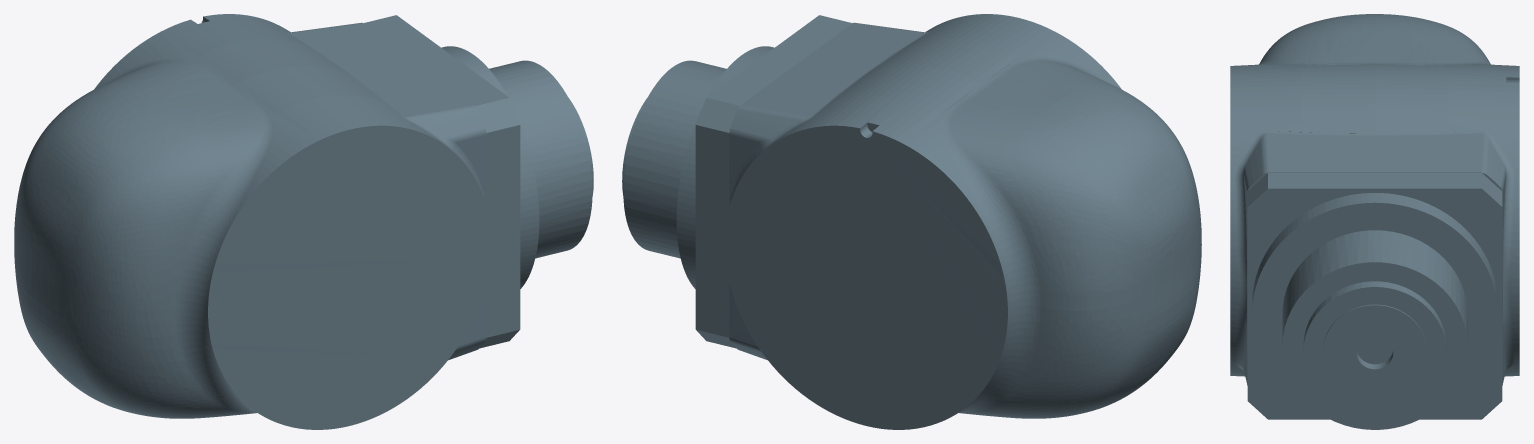
3 renders of one model, left to right at view 1: azimuth 30°, elevation 25°; view 2: azimuth 150°, elevation 25°; view 3: azimuth 270°, elevation 25°, orthographic. The views are drawn at different scales.
Visible parts, largest first — view 1: link_5; view 2: link_5; view 3: link_5.
Boxes of the visible parts, x1,y1,x2,y2 form: link_5: [14, 14, 593, 429]; link_5: [622, 14, 1201, 429]; link_5: [1230, 14, 1519, 429].
Bounding box in the file's own units: 0.1675 × 0.086 × 0.0944.
